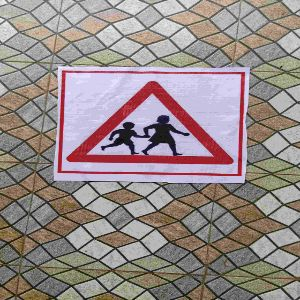schools: (62, 72, 242, 177)
